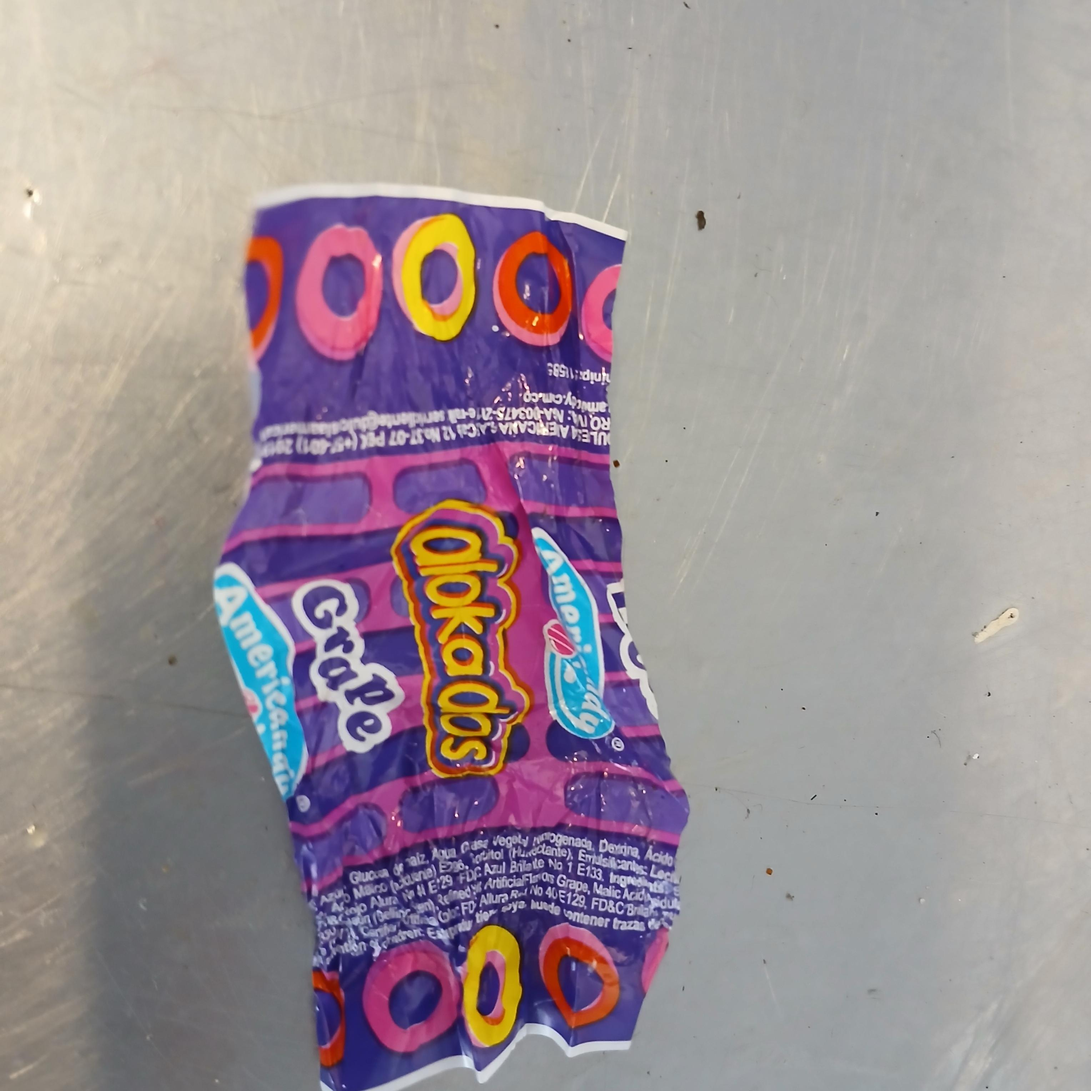Ordinario: (212, 186, 689, 1091)
